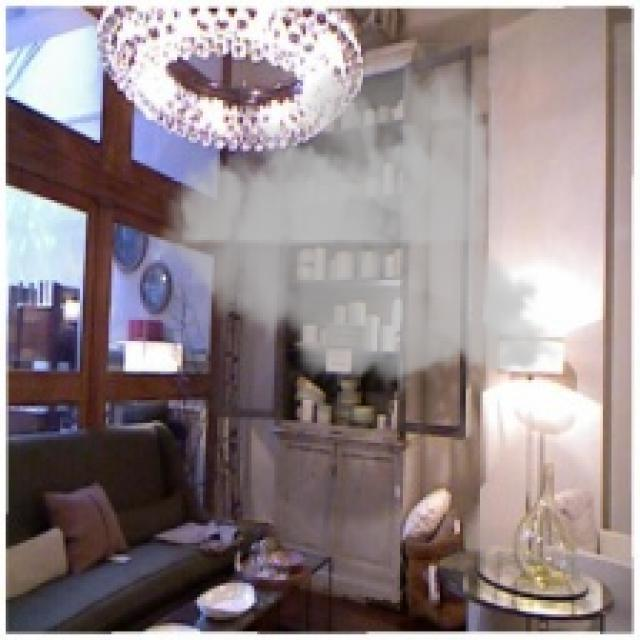Smoke: (142, 42, 568, 398)
